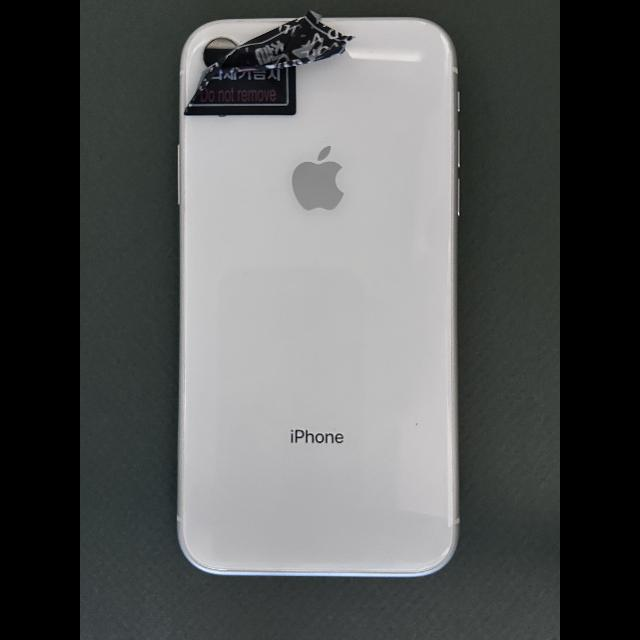lens: (202, 36, 239, 68)
phone: (176, 16, 460, 578)
sticker: (184, 10, 356, 116)
